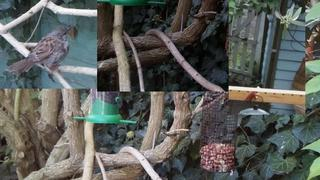dunnock: (5, 27, 70, 75)
